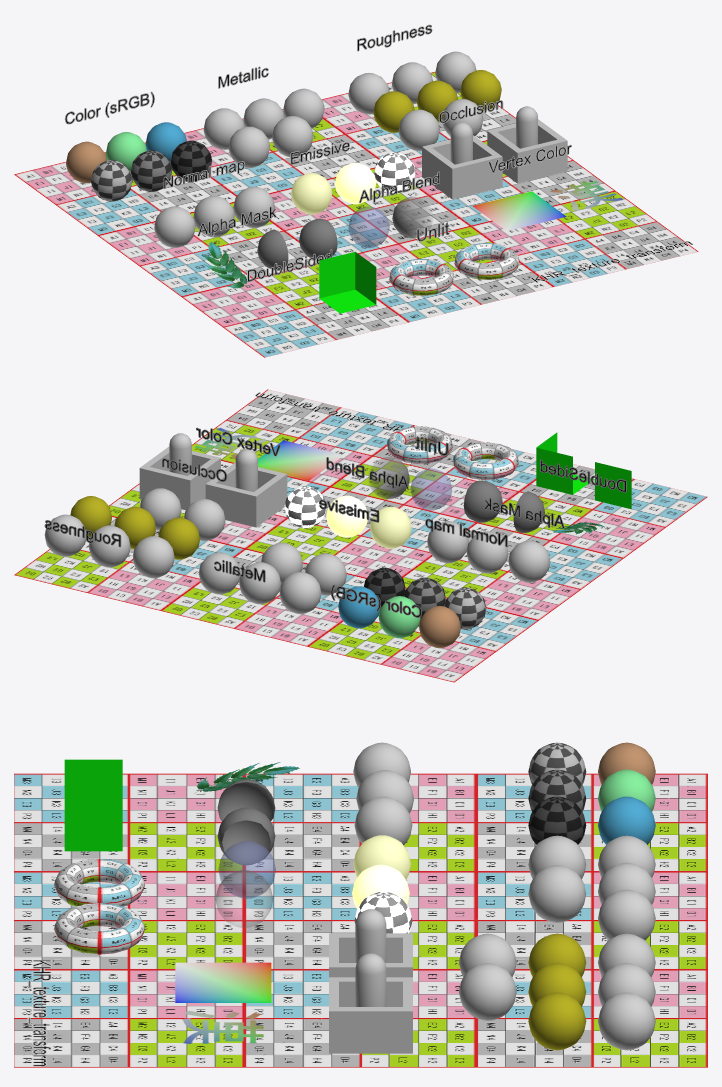
File: TestPBR.glb
The picture shows the model from 3 angles, top to bottom: view 1: azimuth 30°, elevation 25°; view 2: azimuth 150°, elevation 25°; view 3: azimuth 270°, elevation 25°; orthographic projection. The views are drawn at different scales.
Parts seen in each view (by area): view 1: ground_1, ground_2, Occlusion_47, Occlusion_48, object 7, object 51, torus_64, torus_63, sphere_tex_20, sphere_tex_39, sphere_43, sphere_54 (+36 smaller); view 2: ground_1, ground_2, Occlusion_47, Occlusion_48, object 51, torus_63, torus_64, object 7, sphere_30, sphere_tex_39, sphere_24, sphere_17 (+38 smaller); view 3: ground_1, ground_2, Occlusion_48, object 51, Occlusion_47, torus_64, torus_63, object 7, sphere_35, sphere_tex_28, sphere_32, sphere_tex_52 (+29 smaller).
Boxes of the visible parts, box(x1,y1,x2,y2) form: ground_1: box(14, 71, 615, 296); ground_2: box(181, 191, 698, 357); Occlusion_47: box(422, 122, 502, 199); Occlusion_48: box(487, 106, 567, 183); object 7: box(319, 251, 376, 313); object 51: box(472, 191, 565, 230); torus_64: box(454, 243, 519, 279); torus_63: box(389, 259, 453, 295); sphere_tex_20: box(91, 160, 132, 201); sphere_tex_39: box(154, 206, 195, 247); sphere_43: box(291, 173, 332, 214); sphere_54: box(348, 206, 389, 248); ground_1: box(14, 460, 623, 682); ground_2: box(192, 389, 707, 558); Occlusion_47: box(205, 449, 287, 527); Occlusion_48: box(139, 433, 220, 510); object 51: box(257, 440, 343, 480); torus_63: box(453, 442, 518, 479); torus_64: box(387, 426, 452, 463); object 7: box(536, 432, 593, 494); sphere_30: box(132, 536, 174, 578); sphere_tex_39: box(508, 540, 550, 582); sphere_24: box(279, 572, 321, 614); sphere_17: box(419, 606, 460, 648); ground_1: box(244, 773, 707, 1067); ground_2: box(14, 773, 244, 1067); Occlusion_48: box(329, 953, 412, 1053); object 51: box(175, 962, 271, 1002); Occlusion_47: box(329, 909, 412, 977); torus_64: box(54, 903, 144, 954); torus_63: box(54, 859, 144, 906); object 7: box(64, 799, 122, 851); sphere_35: box(528, 992, 586, 1050); sphere_tex_28: box(528, 865, 586, 922); sphere_32: box(598, 992, 655, 1050); sphere_tex_52: box(217, 807, 275, 865).
Bounding box in the file's own units: 5.63 × 0.7856 × 5.47.
Materials: 40 (12 with a texture image).
